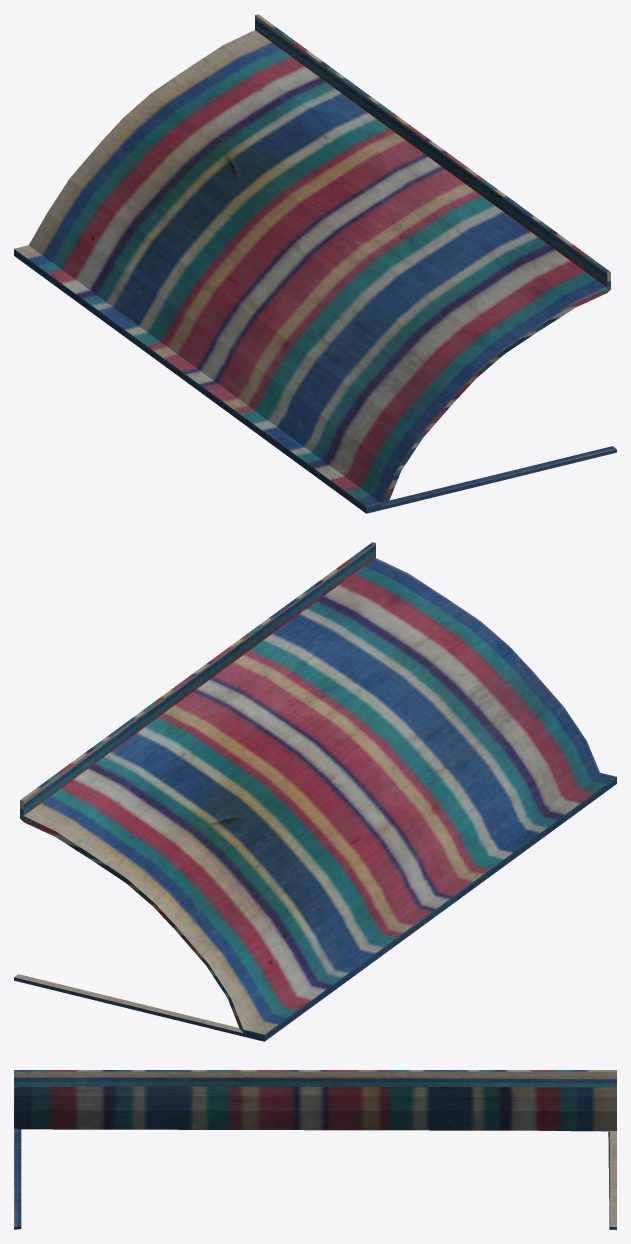
Rendered from roof2.FBX.
3 views of the same model, one above another, from view 1: azimuth 30°, elevation 25°; view 2: azimuth 150°, elevation 25°; view 3: azimuth 270°, elevation 25° (orthographic). The views are drawn at different scales.
Parts seen in each view (by area): view 1: Box001; view 2: Box001; view 3: Box001.
Part boxes in pixels (x1,y1,x2,y2): Box001: (14, 14, 616, 513); Box001: (14, 542, 616, 1041); Box001: (14, 1070, 616, 1229).
Bounding box in the file's own units: 12.55 × 8.71 × 30.57.
